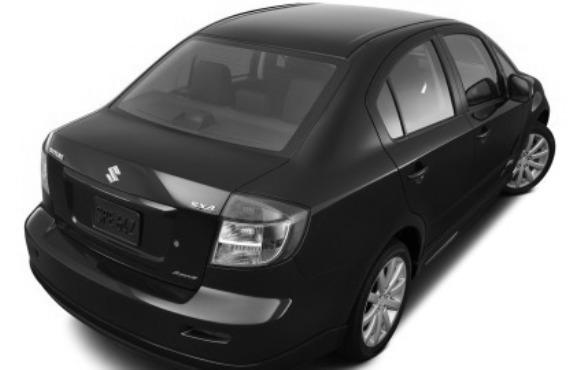car: (24, 1, 559, 368)
